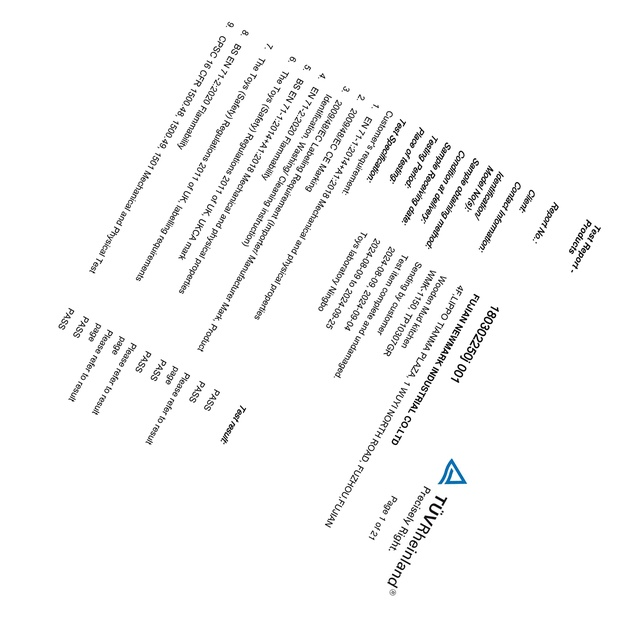tuv_rheinland: (384, 456, 466, 600)
